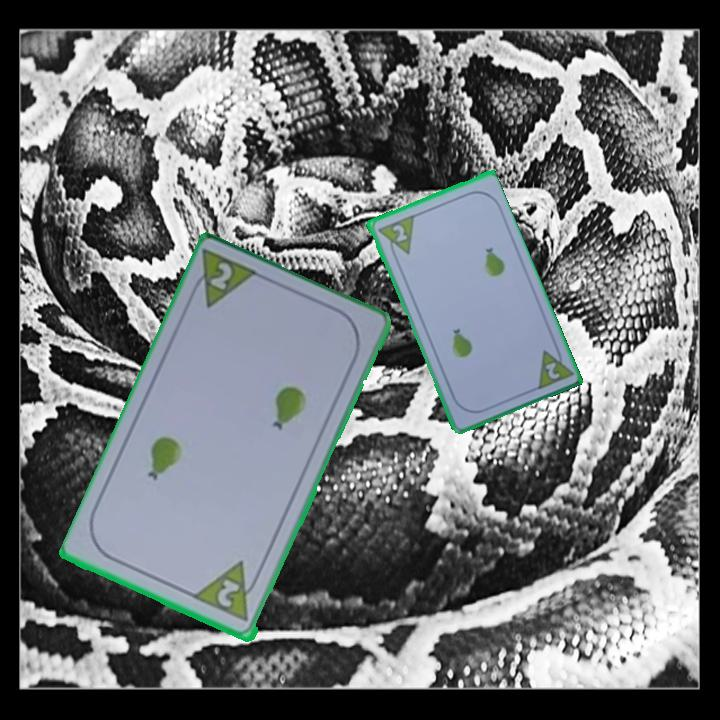2p: (185, 246, 264, 312), (192, 558, 265, 626), (532, 340, 575, 393), (373, 211, 417, 262)
